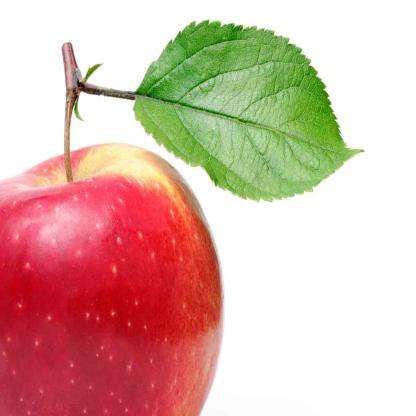apple: (2, 145, 225, 416)
